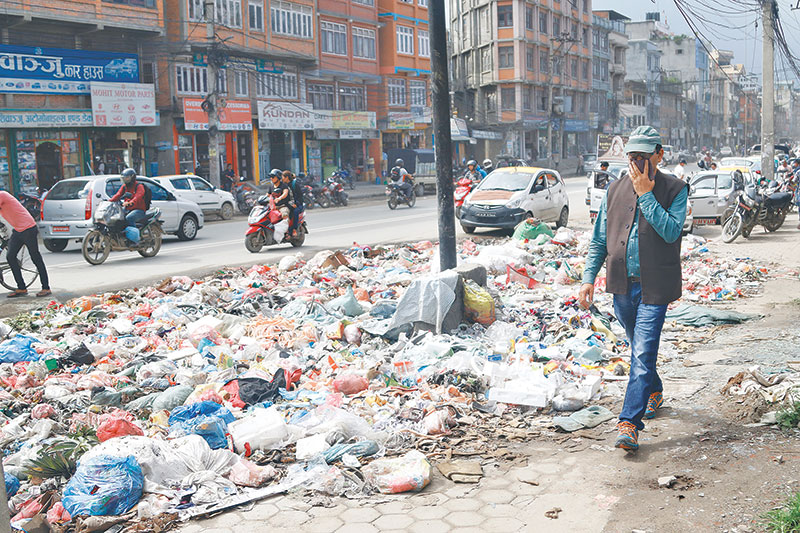trash: (8, 243, 696, 527)
